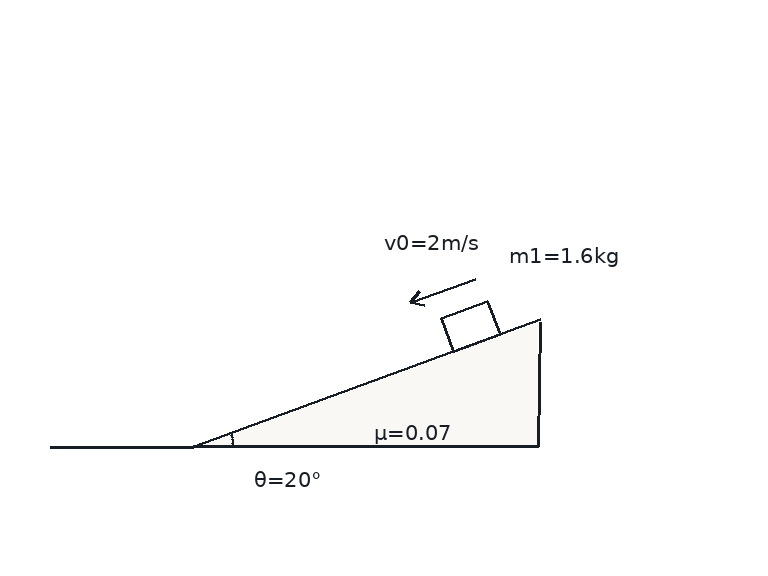block: (439, 299, 501, 353)
ramp: (191, 318, 540, 448)
